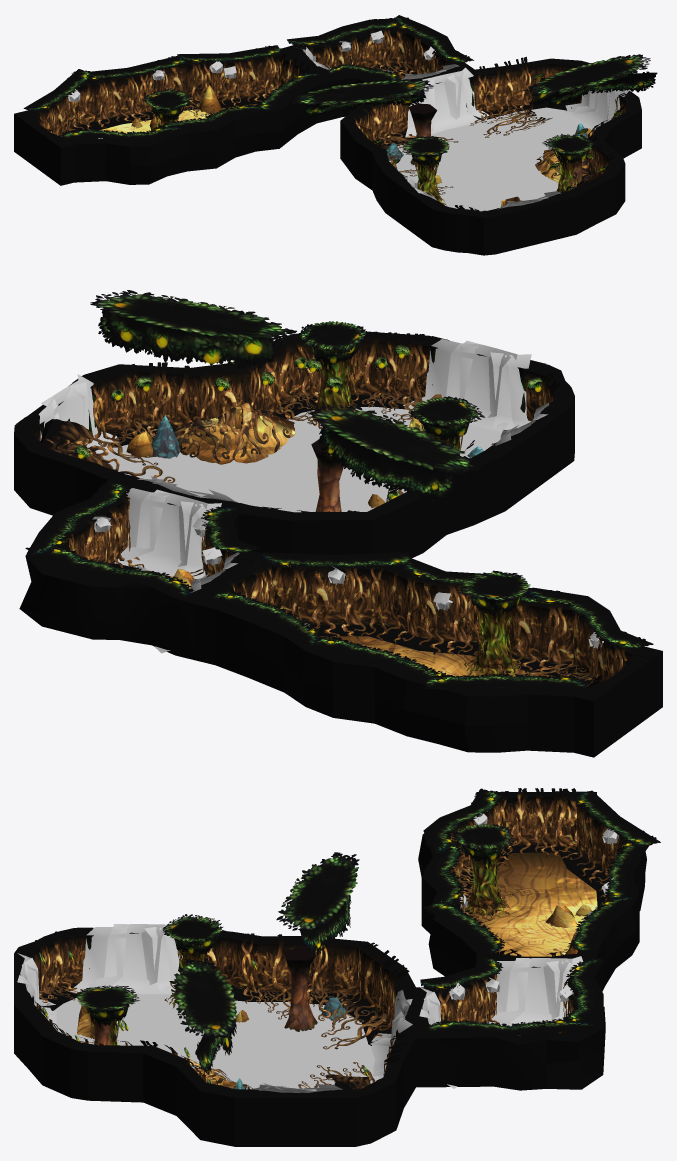
3 renders of one model, top to bottom at view 1: azimuth 30°, elevation 25°; view 2: azimuth 150°, elevation 25°; view 3: azimuth 270°, elevation 25°, orthographic. The views are drawn at different scales.
Parts seen in each view (by area): view 1: Dan1 (×2), Dun_021_Room_003_wall, Dun_021_Room_003_ground, Dungeon_021_Tsuta_002 (×2), un_021_Door_002 (×5), Dungeon_021_Object_025, Dungeon_021_Tsuta_001 (×2), un_021_Door_002_Object1 (×3), Dungeon_021_Object_021, Dungeon_021_Object_010 (×2), Dungeon_021_Object_024, Dungeon_021_Object_012 (+10 smaller); view 2: Dan1 (×2), Dun_021_Room_003_wall, Dungeon_021_Object_025, Dungeon_021_Tsuta_002 (×2), un_021_Door_002_Object1 (×4), Dun_021_Room_003_ground, un_021_Door_002 (×5), Dungeon_021_Tsuta_001 (×2), Dungeon_021_Object_021, Dungeon_021_Object_010 (×2), Dungeon_021_Object_011 (×2), Dungeon_021_Object_015 (+10 smaller); view 3: Dun_021_Room_003_wall, Dan1 (×2), un_021_Door_002_Object1 (×6), Dungeon_021_Tsuta_002 (×2), Dun_021_Room_003_ground, Dungeon_021_Object_025, un_021_Door_002 (×5), Dan2, Dungeon_021_Object_021, Dungeon_021_Object_010 (×2), Dungeon_021_Tsuta_001 (×2), Dungeon_021_Object_022 (+6 smaller).
Part boxes in pixels (left/top/right/bottom): Dan1 (×2): left=14, top=27, right=474, bottom=185; Dun_021_Room_003_wall: left=340, top=58, right=641, bottom=255; Dun_021_Room_003_ground: left=389, top=107, right=592, bottom=211; Dungeon_021_Tsuta_002 (×2): left=23, top=15, right=473, bottom=141; un_021_Door_002 (×5): left=15, top=46, right=574, bottom=250; Dungeon_021_Object_025: left=288, top=54, right=657, bottom=117; Dungeon_021_Tsuta_001 (×2): left=38, top=28, right=457, bottom=141; un_021_Door_002_Object1 (×3): left=265, top=53, right=629, bottom=137; Dungeon_021_Object_021: left=348, top=56, right=627, bottom=210; Dungeon_021_Object_010 (×2): left=143, top=88, right=594, bottom=163; Dungeon_021_Object_024: left=470, top=77, right=580, bottom=137; Dungeon_021_Object_012: left=402, top=136, right=449, bottom=166; Dan1 (×2): left=19, top=496, right=662, bottom=757; Dun_021_Room_003_wall: left=14, top=331, right=574, bottom=557; Dungeon_021_Object_025: left=90, top=290, right=480, bottom=501; Dungeon_021_Tsuta_002 (×2): left=25, top=480, right=653, bottom=690; un_021_Door_002_Object1 (×4): left=38, top=339, right=531, bottom=602; Dun_021_Room_003_ground: left=103, top=406, right=503, bottom=512; un_021_Door_002 (×5): left=123, top=401, right=660, bottom=748; Dungeon_021_Tsuta_001 (×2): left=65, top=496, right=636, bottom=688; Dungeon_021_Object_021: left=66, top=331, right=560, bottom=513; Dungeon_021_Object_010 (×2): left=296, top=321, right=530, bottom=616; Dungeon_021_Object_011 (×2): left=307, top=357, right=522, bottom=676; Dungeon_021_Object_015: left=174, top=406, right=294, bottom=464; Dun_021_Room_003_wall: left=14, top=928, right=415, bottom=1146; Dan1 (×2): left=416, top=792, right=646, bottom=1090; un_021_Door_002_Object1 (×6): left=17, top=788, right=583, bottom=1088; Dungeon_021_Tsuta_002 (×2): left=420, top=788, right=660, bottom=1036; Dun_021_Room_003_ground: left=53, top=991, right=378, bottom=1089; Dungeon_021_Object_025: left=169, top=852, right=359, bottom=1074; un_021_Door_002 (×5): left=14, top=791, right=584, bottom=1146; Dan2: left=470, top=852, right=597, bottom=956; Dungeon_021_Object_021: left=31, top=931, right=409, bottom=1088; Dungeon_021_Object_010 (×2): left=76, top=824, right=513, bottom=1025; Dungeon_021_Tsuta_001 (×2): left=433, top=795, right=628, bottom=1033; Dungeon_021_Object_022: left=39, top=976, right=388, bottom=1049.
Size of what is drawn, in the model's own units: 27.25 by 4.55 by 24.21.
